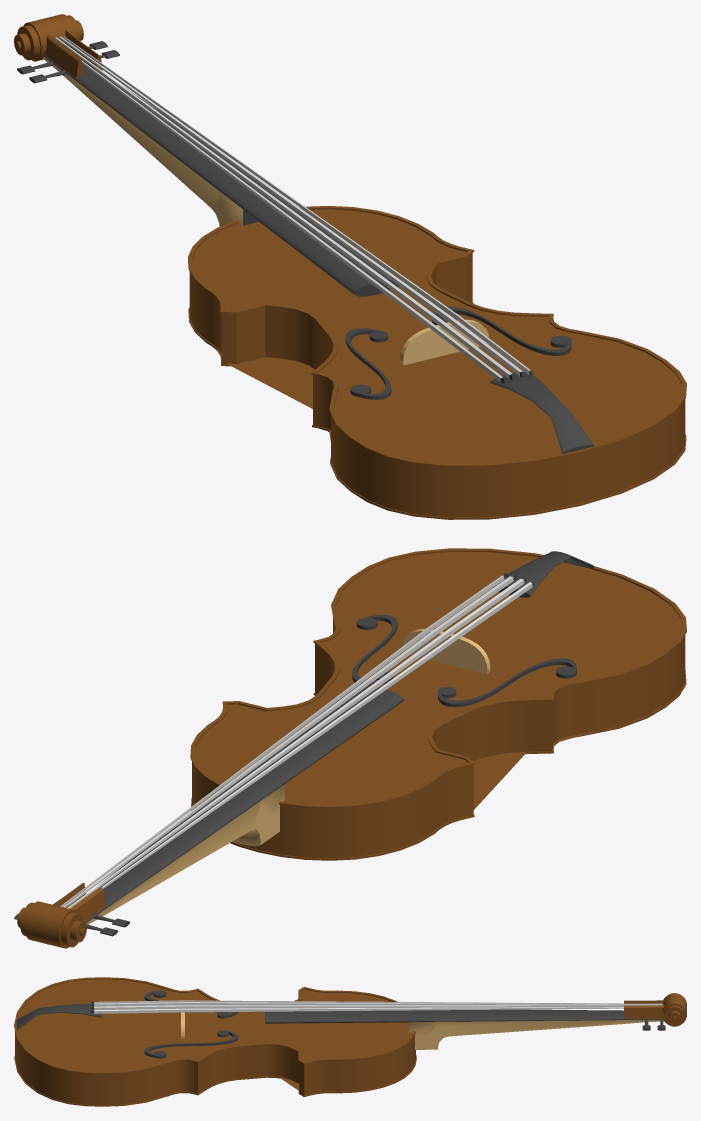
Rendered from Violin_0.fbx.
3 renders of one model, top to bottom at view 1: azimuth 30°, elevation 25°; view 2: azimuth 150°, elevation 25°; view 3: azimuth 270°, elevation 25°, orthographic. The views are drawn at different scales.
Visible parts, largest first — view 1: Circle.004; view 2: Circle.004; view 3: Circle.004.
Boxes of the visible parts, <box> form: Circle.004: <box>14,14,686,519</box>; Circle.004: <box>14,548,686,948</box>; Circle.004: <box>14,977,686,1106</box>.
Size of the model in its own units: 19.15 by 5.61 by 56.8.
